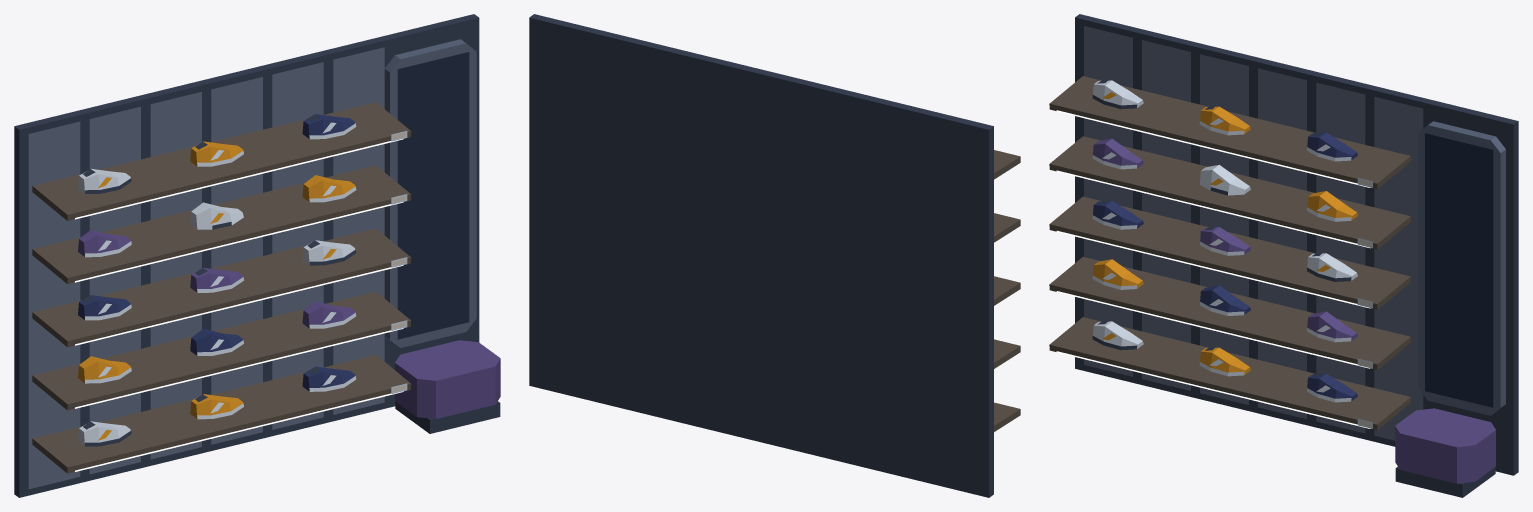
The model's file is mall_shoe_wall.glb.
The picture shows the model from 3 angles, left to right: view 1: azimuth 30°, elevation 25°; view 2: azimuth 150°, elevation 25°; view 3: azimuth 330°, elevation 25°; orthographic projection. The views are drawn at different scales.
Visible parts, largest first — view 1: angled_shelf, display_slats, backboard, mirror, ottoman, outsole_edge.003, mirror_frame, shelf_light, quarter_stripe, trainer.002; view 2: backboard, angled_shelf; view 3: angled_shelf, display_slats, backboard, mirror, ottoman, mirror_frame, outsole_edge.003, quarter_stripe, shelf_light, trainer.002.
Part boxes in pixels (x1,y1,x2,y2): angled_shelf: [32, 102, 411, 473]; display_slats: [28, 47, 384, 489]; backboard: [14, 14, 500, 497]; mirror: [397, 52, 469, 339]; ottoman: [78, 230, 500, 418]; outsole_edge.003: [78, 122, 407, 446]; mirror_frame: [384, 39, 476, 347]; shelf_light: [75, 139, 403, 471]; quarter_stripe: [78, 141, 355, 440]; trainer.002: [78, 114, 355, 391]; backboard: [529, 14, 993, 497]; angled_shelf: [994, 150, 1020, 431]; angled_shelf: [1049, 76, 1410, 430]; display_slats: [1084, 26, 1423, 440]; backboard: [1075, 14, 1518, 497]; mirror: [1425, 133, 1493, 407]; ottoman: [1093, 138, 1495, 483]; mirror_frame: [1418, 121, 1505, 415]; outsole_edge.003: [1092, 80, 1372, 428]; quarter_stripe: [1093, 92, 1357, 375]; shelf_light: [1056, 110, 1370, 428]; trainer.002: [1093, 132, 1357, 401].
Bounding box in the file's own units: 3.4 × 2.6 × 0.55.
